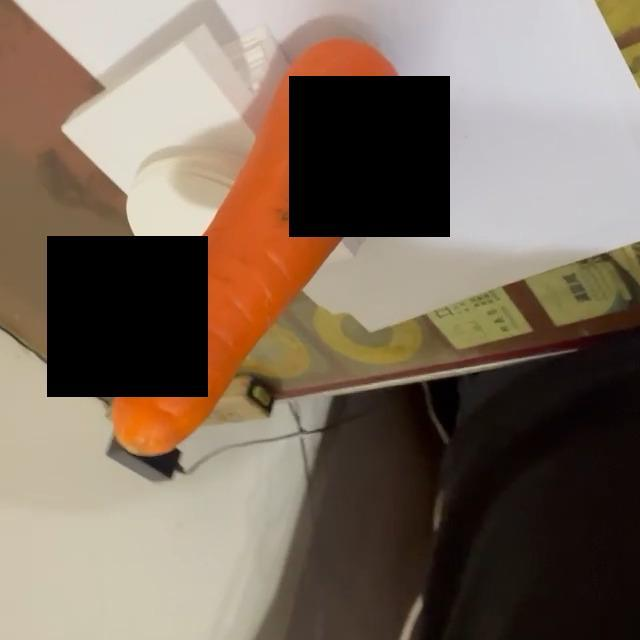carrot: (113, 35, 410, 458)
